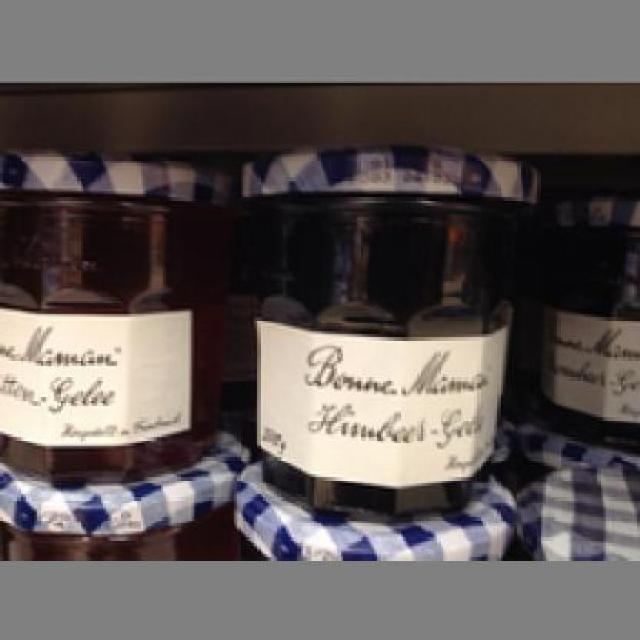Jam: (237, 142, 537, 515), (0, 148, 226, 474)
